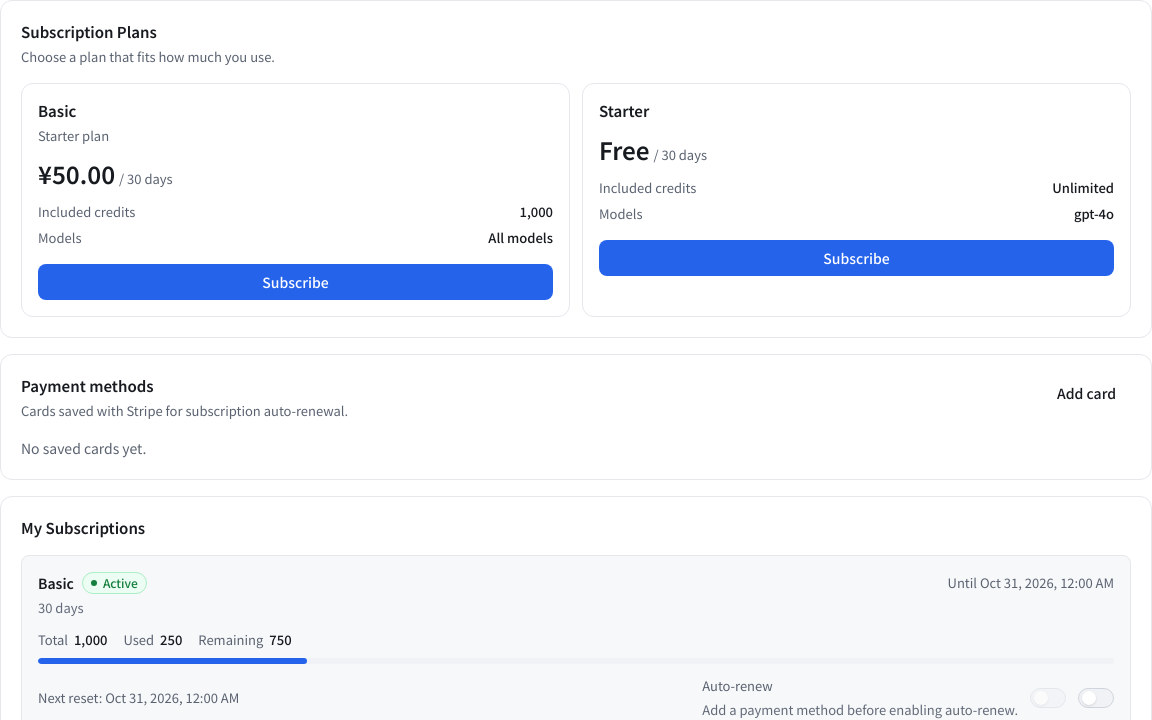
SubscriptionSection › surfaces a 409 cancel response inline and leaves the switch unchanged
This screenshot has width=1152, height=720.
Click the switch named "Cancel at period end: Basic": (1096, 698) [1078,688,1114,708]
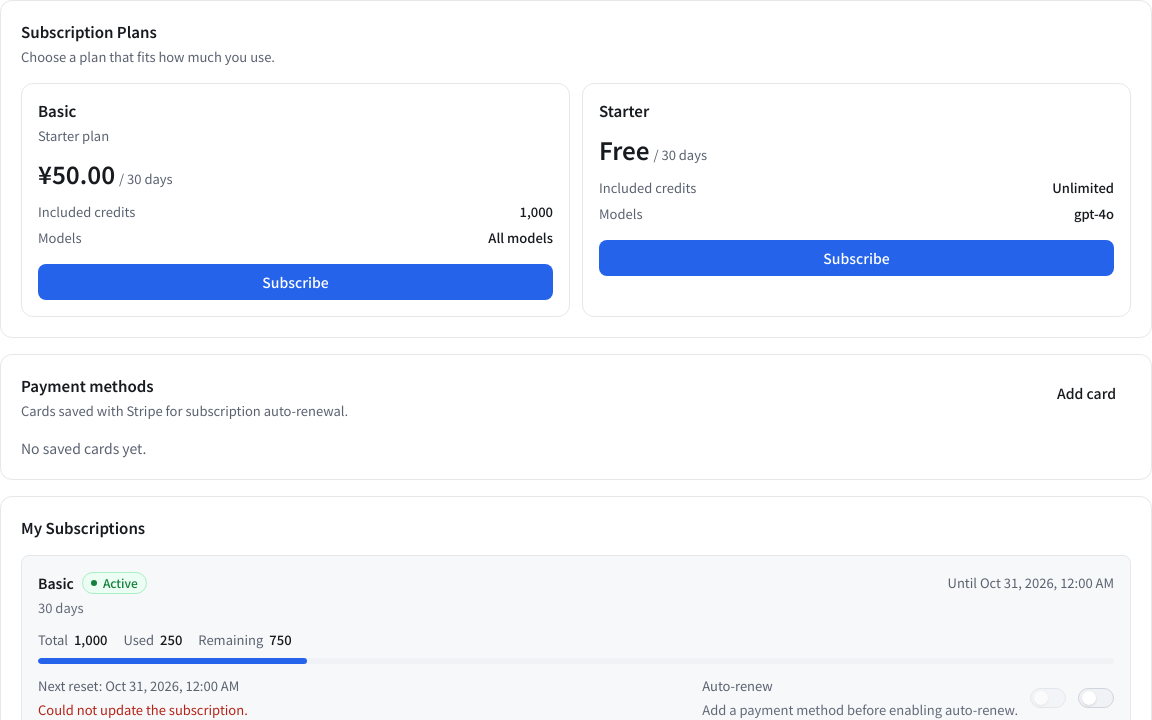
Expected: the text "Could not update the subscription." is shown, [38,700,248,719]
